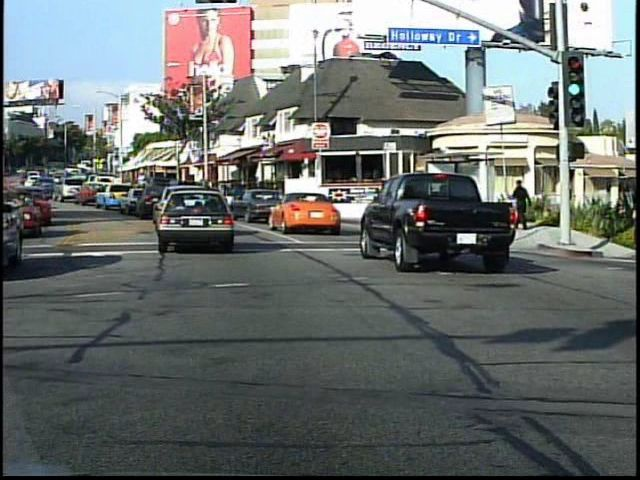person: (611, 192, 637, 263), (509, 175, 533, 234)
